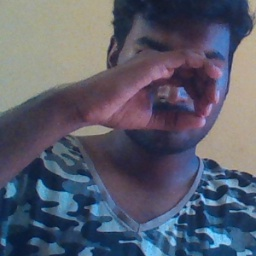O: (60, 42, 225, 137)
